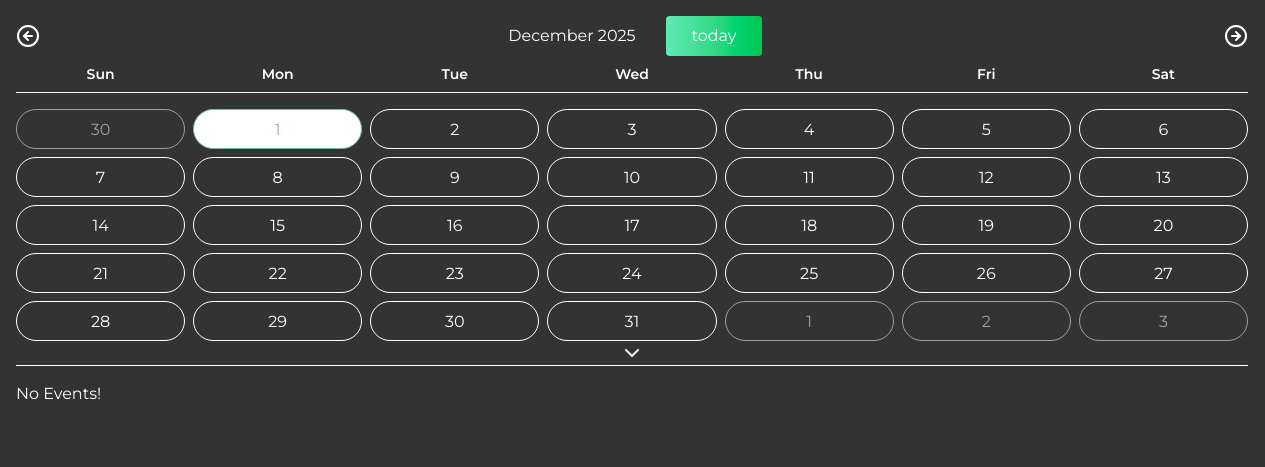
Scenario: Event Integration Tests › calendar displays events
This screenshot has width=1265, height=467.
Check: the text "December 2025" is shown, box 502,24 -> 642,48
Click the button "25": {"x": 809, "y": 273} 725,253 -> 894,293
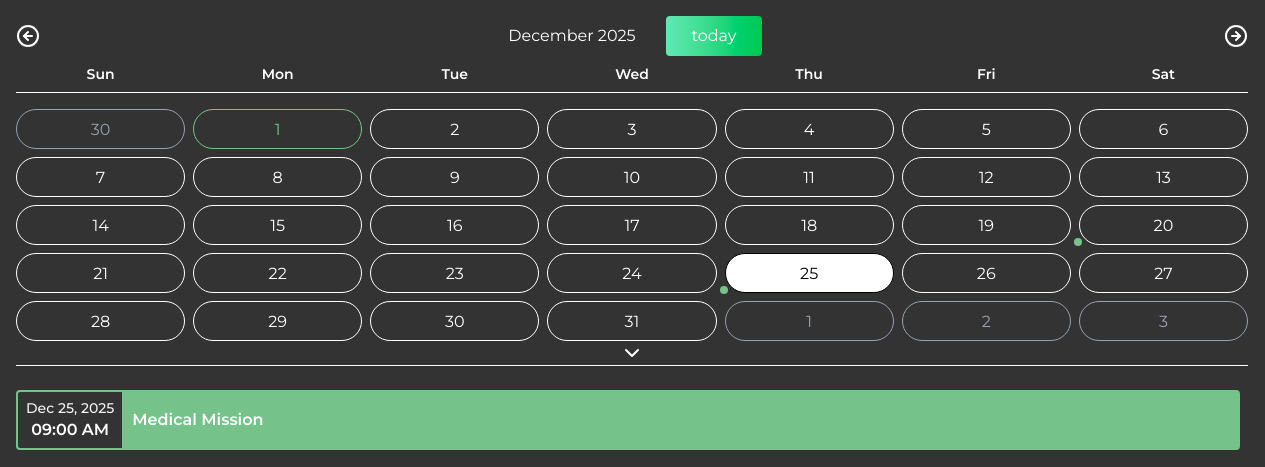
Check: the heading "Medical Mission" is shown, box 132,410 -> 264,429
Click the button "20": {"x": 1163, "y": 225} 1079,205 -> 1248,245
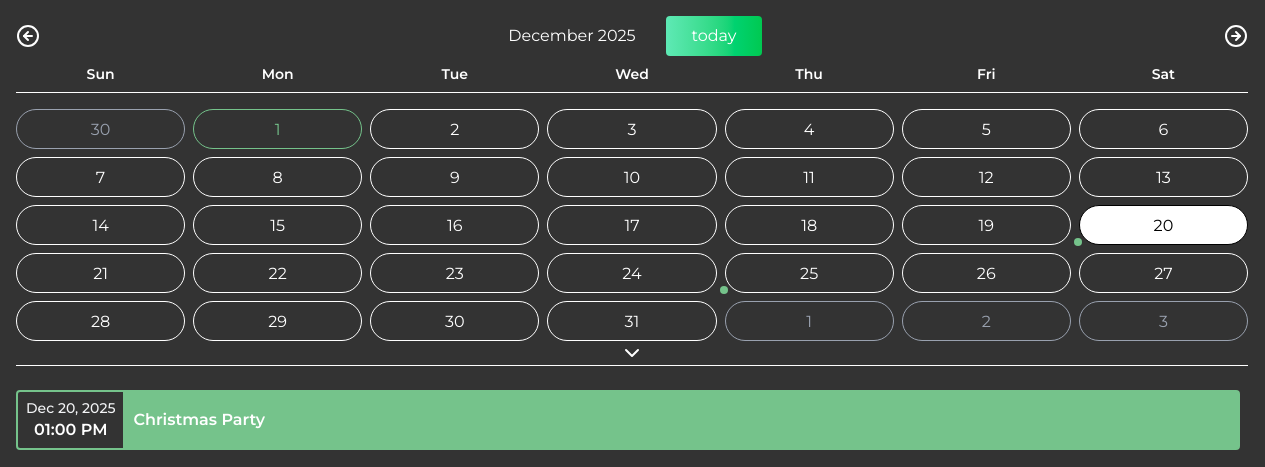
Check: the heading "Christmas Party" is shown, box 134,410 -> 265,429
